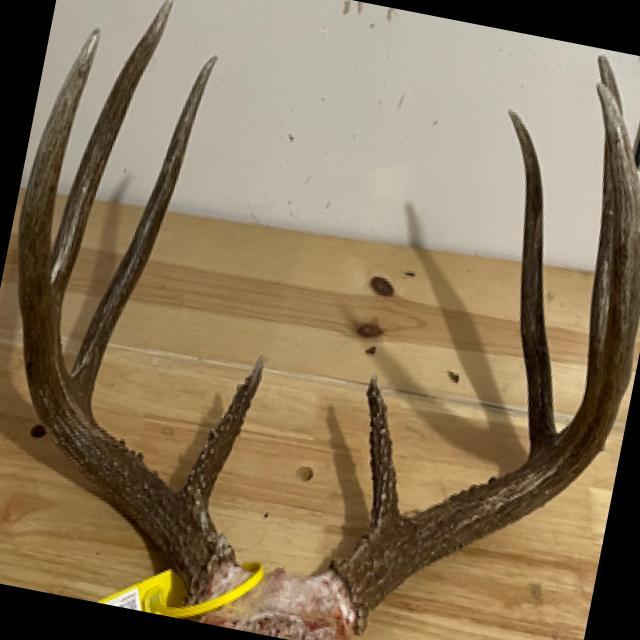L-F: (330, 82, 640, 634)
L-G1: (365, 373, 401, 532)
L-G2: (507, 109, 562, 462)
R-F: (16, 30, 236, 606)
R-G1: (177, 354, 265, 518)
R-G2: (71, 55, 219, 411)
R-G3: (51, 0, 174, 315)
